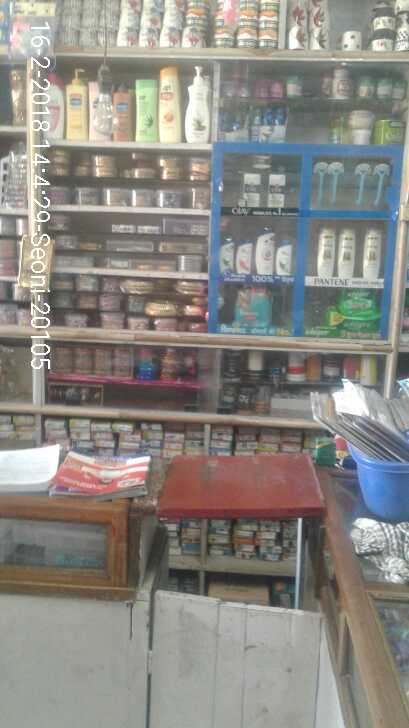venus: (373, 161, 395, 205), (353, 161, 373, 205), (329, 162, 347, 206), (314, 162, 328, 208)
